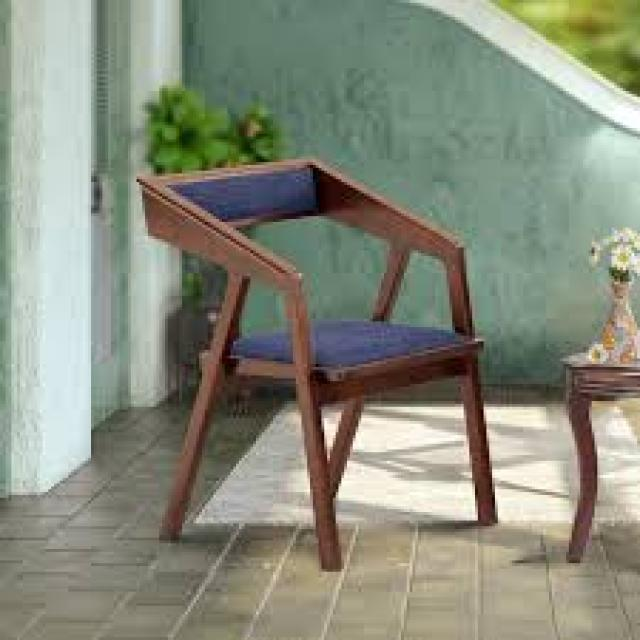chair: (84, 124, 516, 624)
